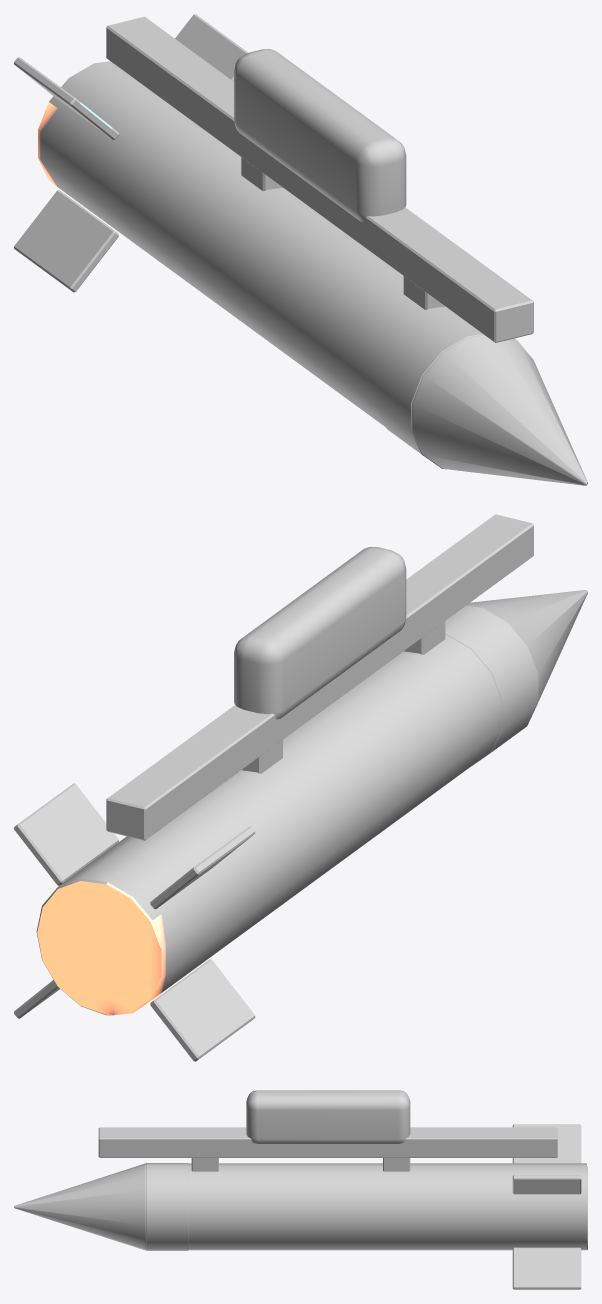
Rendered from Rack_ClusterMissile.fbx.
3 views of the same model, one above another, from view 1: azimuth 30°, elevation 25°; view 2: azimuth 150°, elevation 25°; view 3: azimuth 270°, elevation 25° (orthographic). The views are drawn at different scales.
Parts seen in each view (by area): view 1: Rack_ClusterMissile; view 2: Rack_ClusterMissile; view 3: Rack_ClusterMissile.
Part boxes in pixels (x1=…): Rack_ClusterMissile: x1=14, y1=14, x2=587, y2=485; Rack_ClusterMissile: x1=14, y1=514, x2=587, y2=1061; Rack_ClusterMissile: x1=14, y1=1090, x2=587, y2=1289.
Bounding box in the file's own units: 0.4612 × 0.6906 × 2.1.
